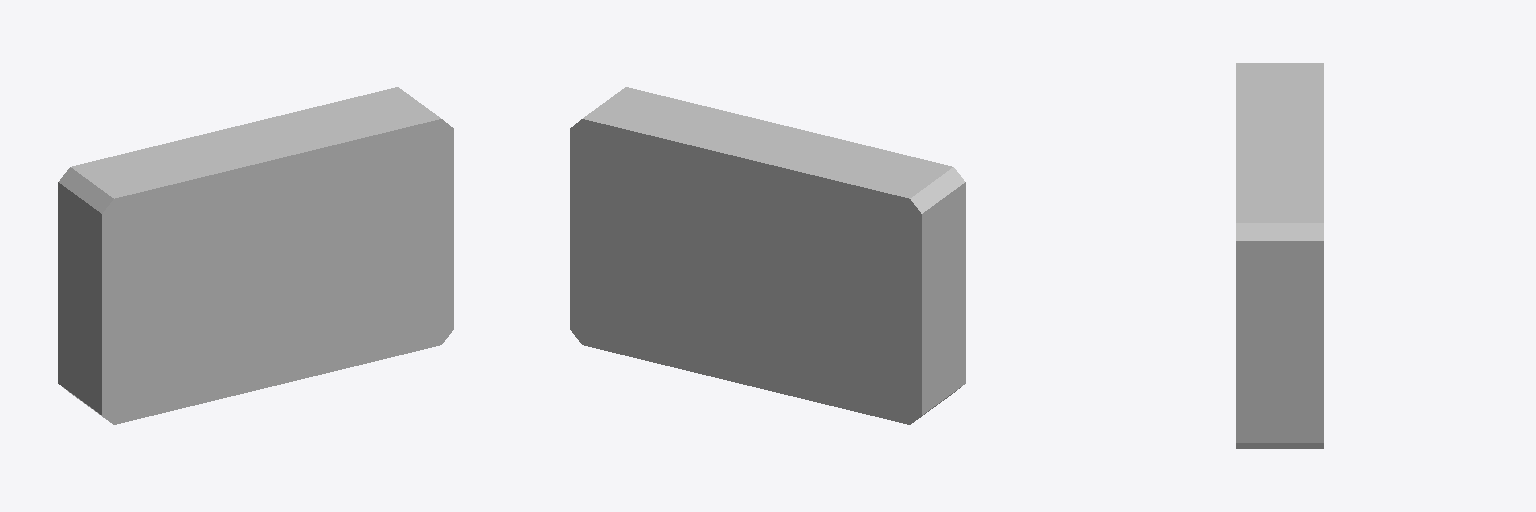
The model's file is RDC2.obj.
3 views of the same model, side by side, from view 1: azimuth 30°, elevation 25°; view 2: azimuth 150°, elevation 25°; view 3: azimuth 270°, elevation 25° (orthographic).
Visible parts, largest first — view 1: RDC2; view 2: RDC2; view 3: RDC2.
Boxes of the visible parts, x1,y1,x2,y2 form: RDC2: [58, 87, 453, 424]; RDC2: [570, 87, 965, 424]; RDC2: [1236, 63, 1323, 448].
Size of the model in its own units: 5.72 by 3.52 by 1.23.